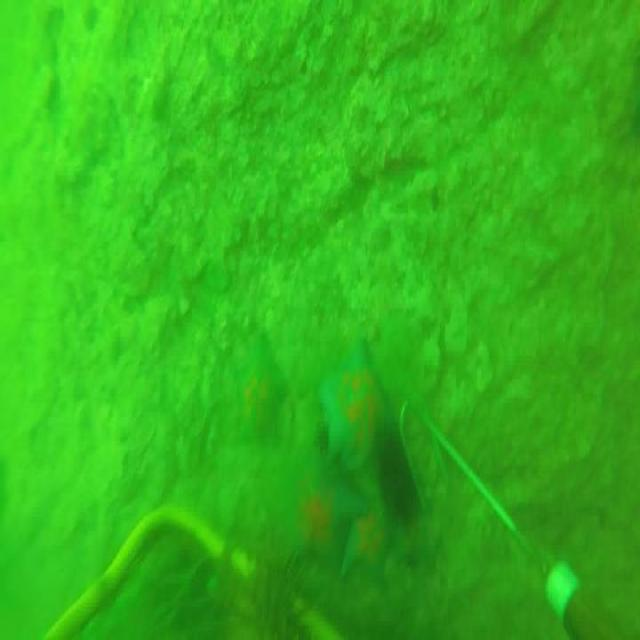echinus: (376, 418, 429, 510)
starfish: (324, 349, 396, 466), (296, 447, 356, 574), (237, 335, 287, 442), (342, 496, 398, 586)
